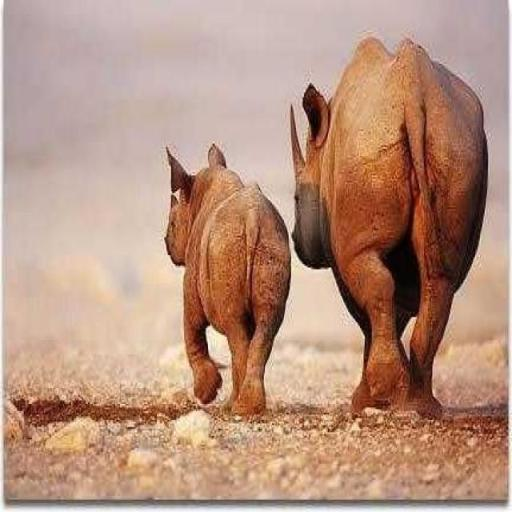Rhino: (288, 32, 488, 418), (163, 140, 291, 416)
